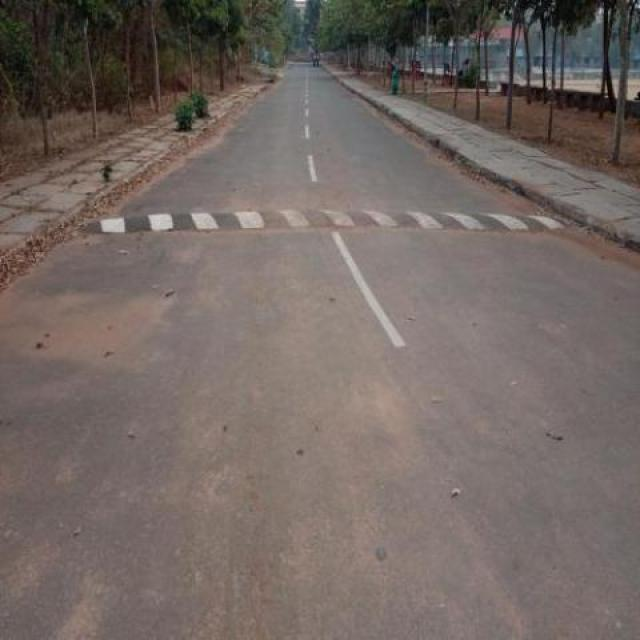Speed Bump: (79, 206, 566, 238)
